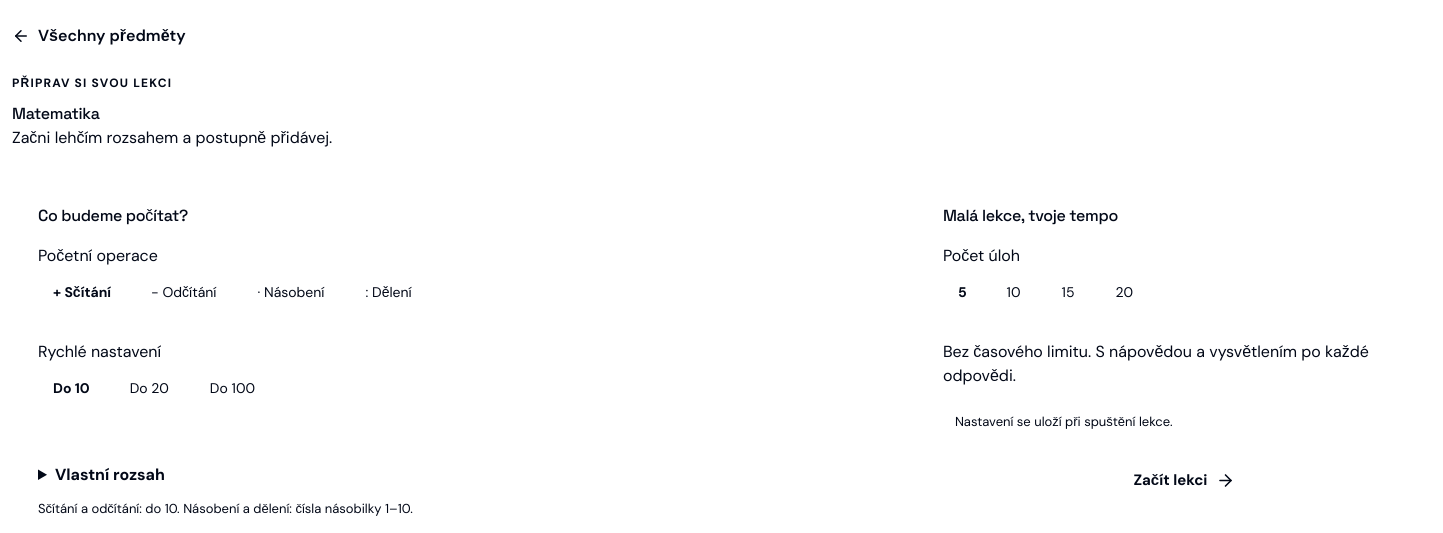
Test: production lesson controls and persistence › guards double submits in React and keeps the fifth answer in the summary
The image size is (1443, 533).
Earlier steps of the test are not shown.
Later steps or results of the test are not shown.
Click the button "Začít lekci": {"x": 1184, "y": 480} [943,456,1426,506]
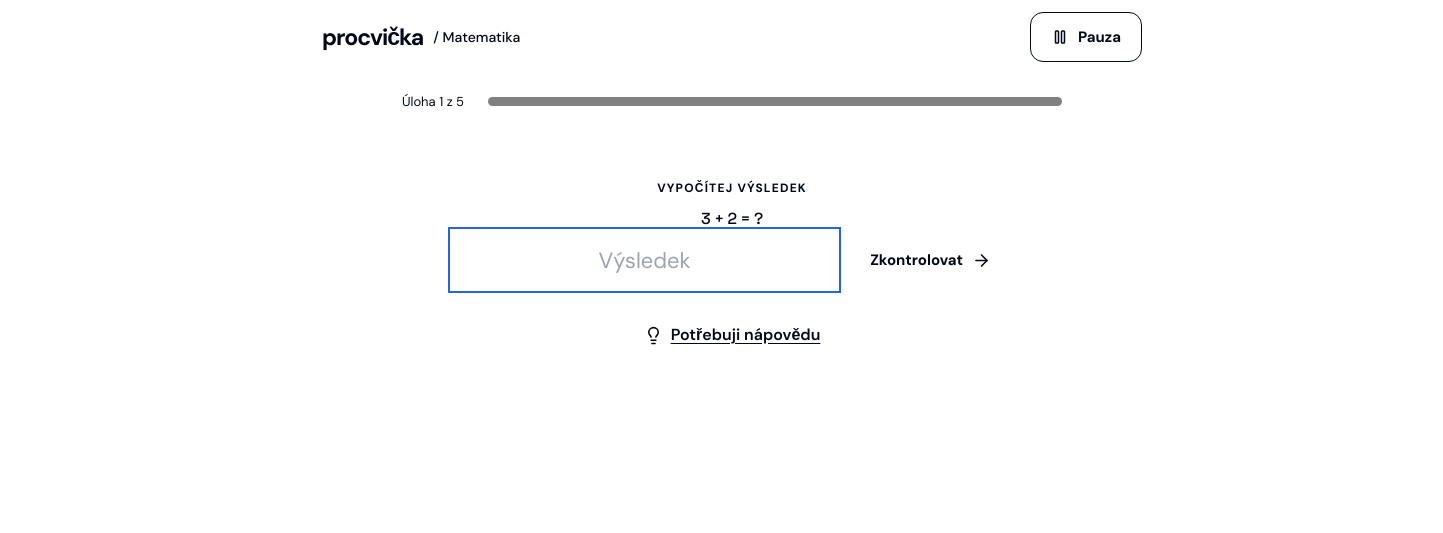
In the field labelled "Výsledek": {"x": 645, "y": 260} [452,231,837,289], type "5"
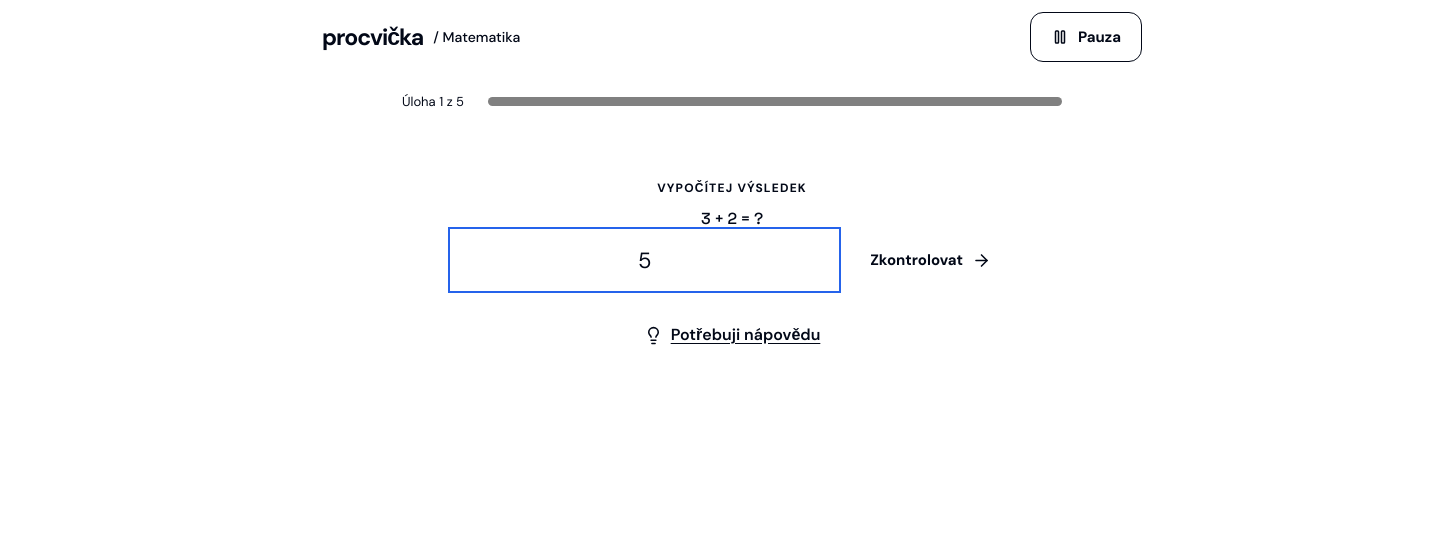
Click the button "Zkontrolovat": {"x": 931, "y": 260} [849,231,1012,289]
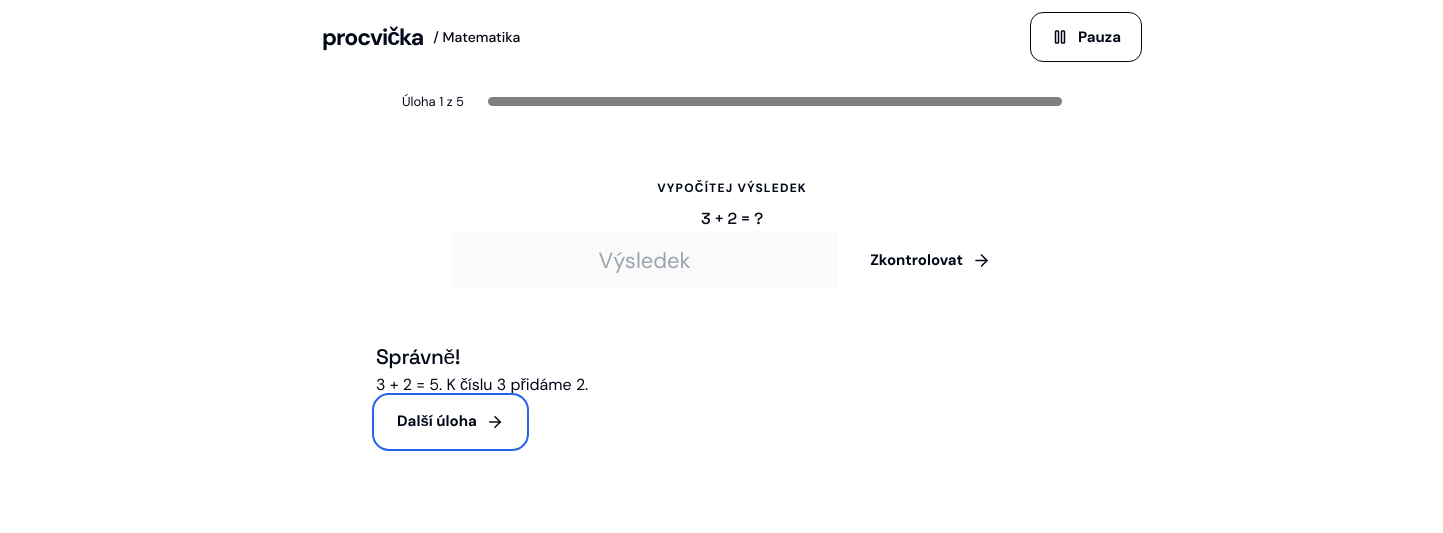
Click the button "Zkontrolovat": {"x": 931, "y": 260} [849,231,1012,289]
Expected: the button "Zkontrolovat" is disabled, [849,231,1012,289]
Click the button "Další úloha": {"x": 450, "y": 422} [376,396,525,446]
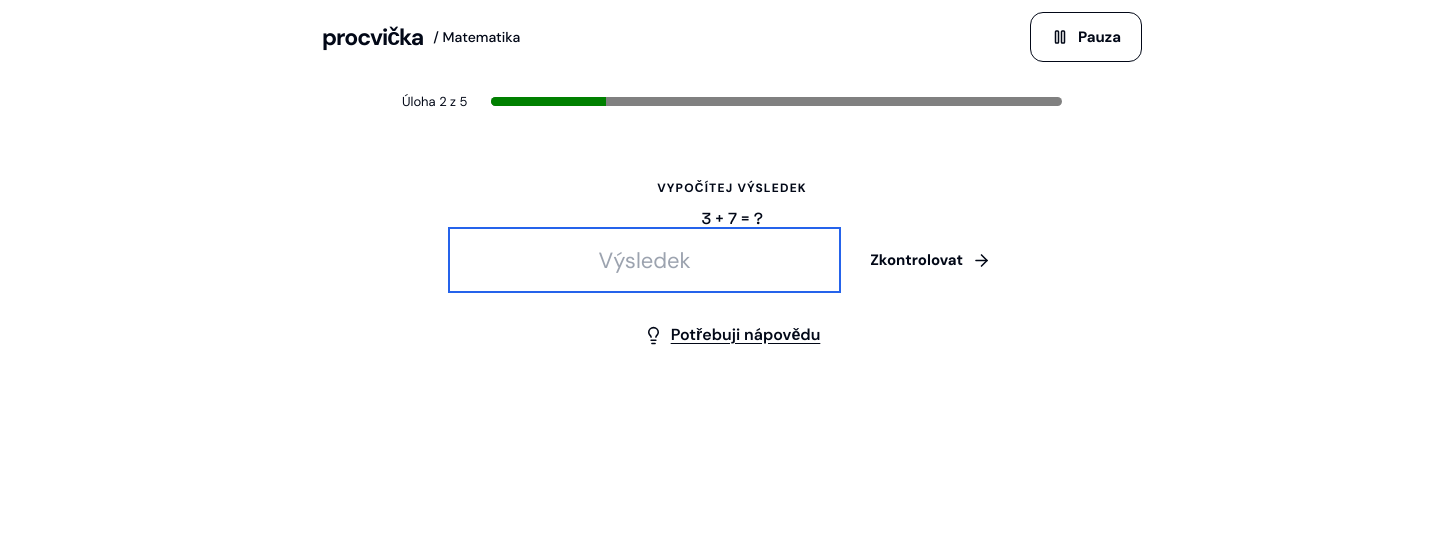
In the field labelled "Výsledek": {"x": 645, "y": 260} [452,231,837,289], type "10"
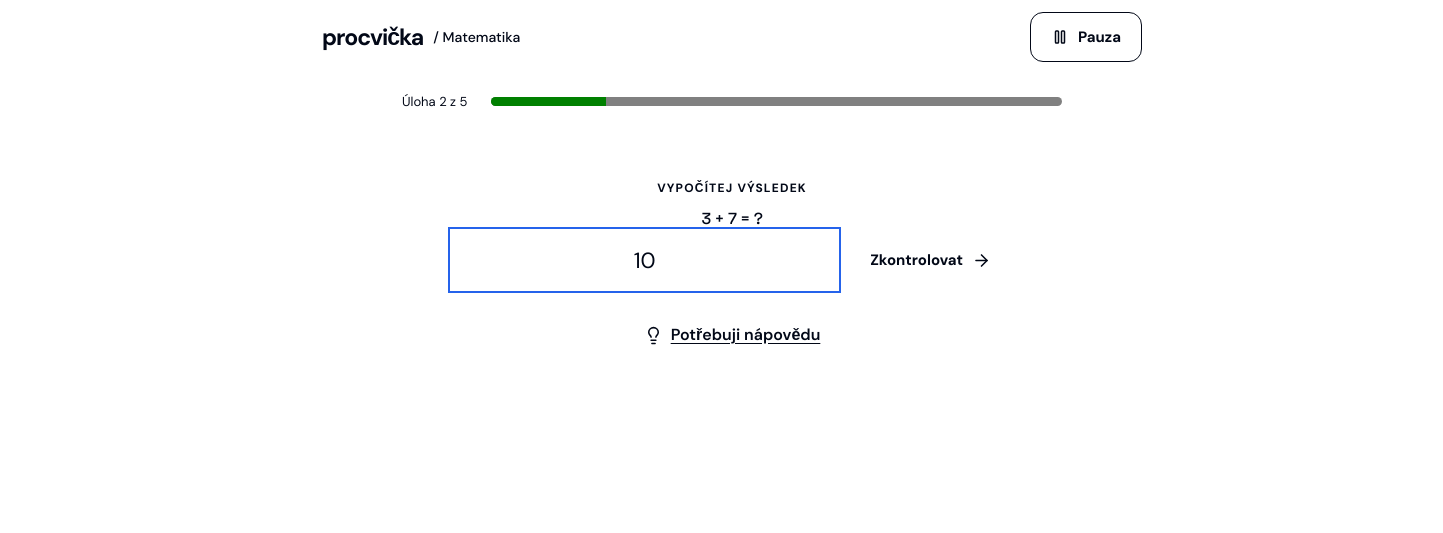
Click the button "Zkontrolovat": {"x": 931, "y": 260} [849,231,1012,289]
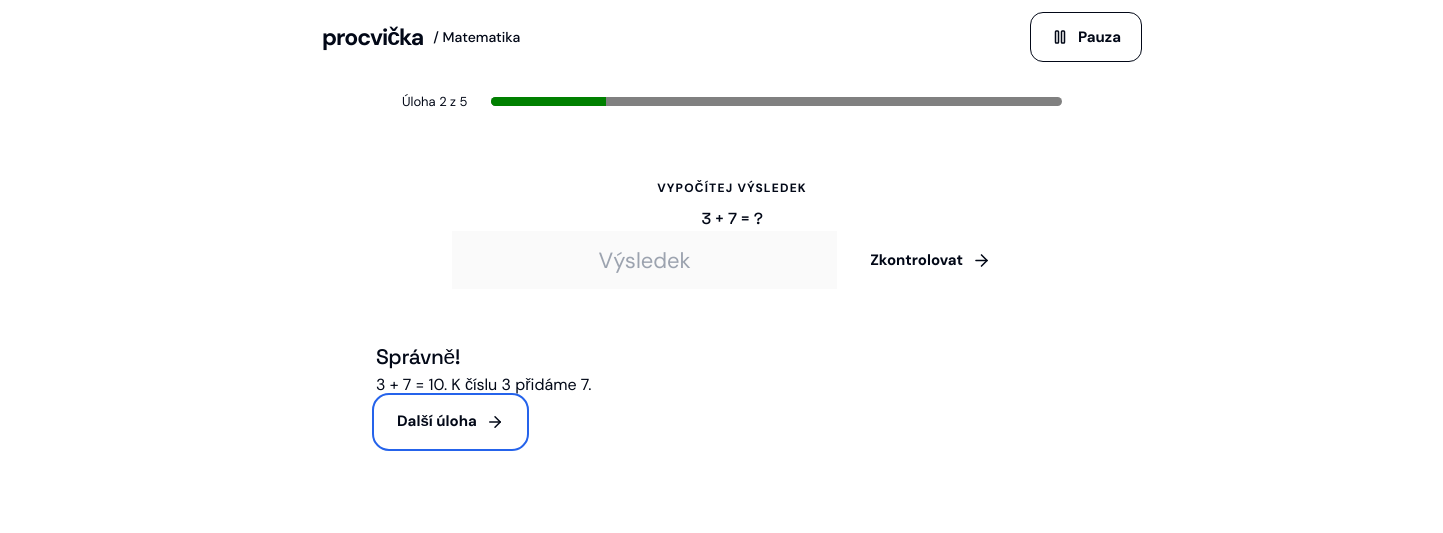
Click the button "Zkontrolovat": {"x": 931, "y": 260} [849,231,1012,289]
Expected: the button "Zkontrolovat" is disabled, [849,231,1012,289]
